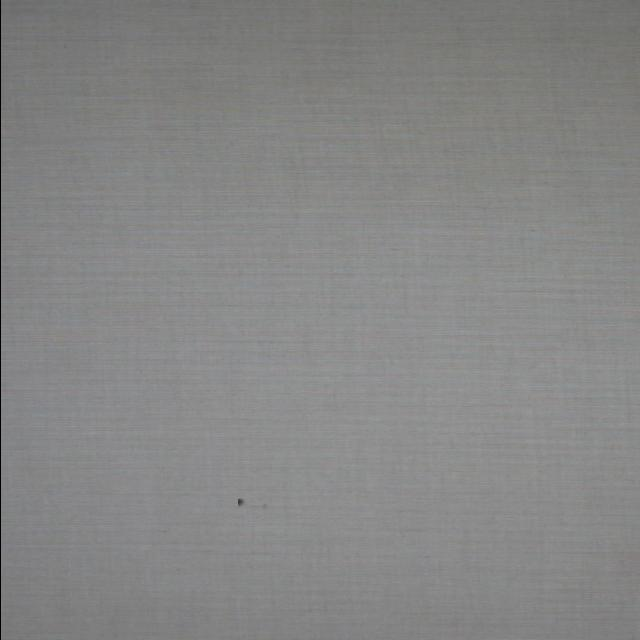dirty: (233, 498, 245, 506)
